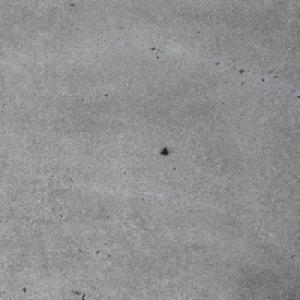BoltWasher: (159, 147, 168, 155)
